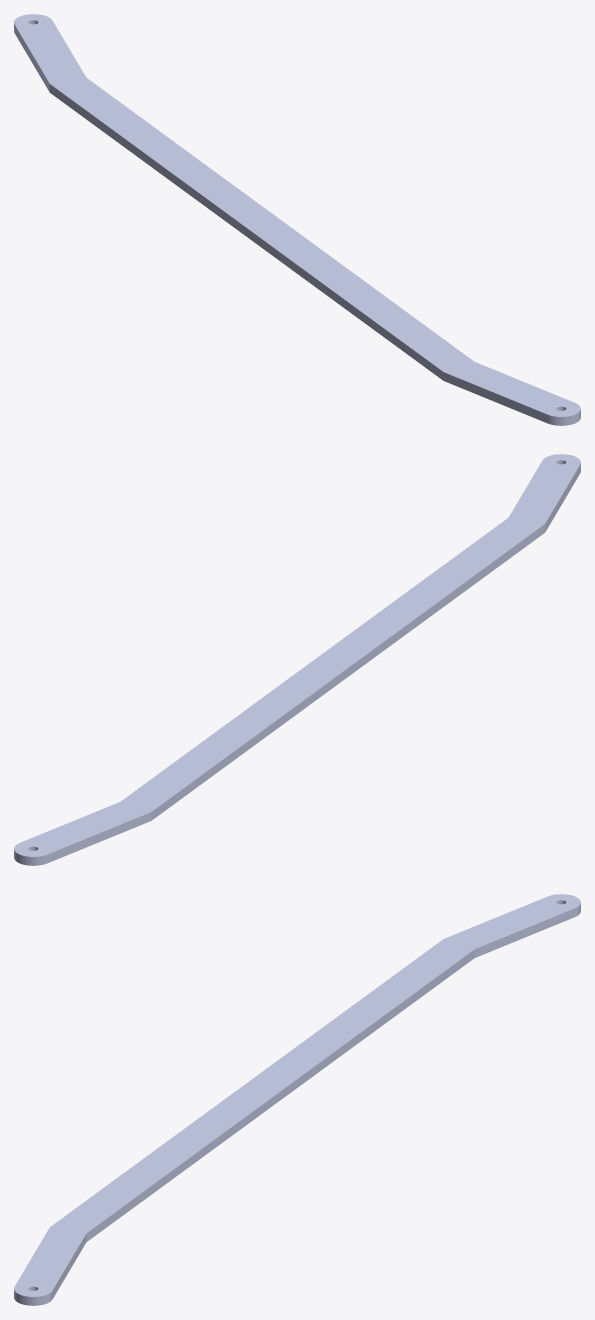
Rendered from LOWER_LINK2.glb.
The picture shows the model from 3 angles, top to bottom: view 1: azimuth 30°, elevation 25°; view 2: azimuth 150°, elevation 25°; view 3: azimuth 330°, elevation 25°; orthographic projection.
Parts seen in each view (by area): view 1: LOWER_LINK2; view 2: LOWER_LINK2; view 3: LOWER_LINK2.
Boxes of the visible parts, bbox=[...] form: LOWER_LINK2: bbox=[14, 14, 580, 425]; LOWER_LINK2: bbox=[14, 454, 580, 865]; LOWER_LINK2: bbox=[14, 894, 580, 1305].
Size of the model in its own units: 0.04 by 0.005 by 0.56.
